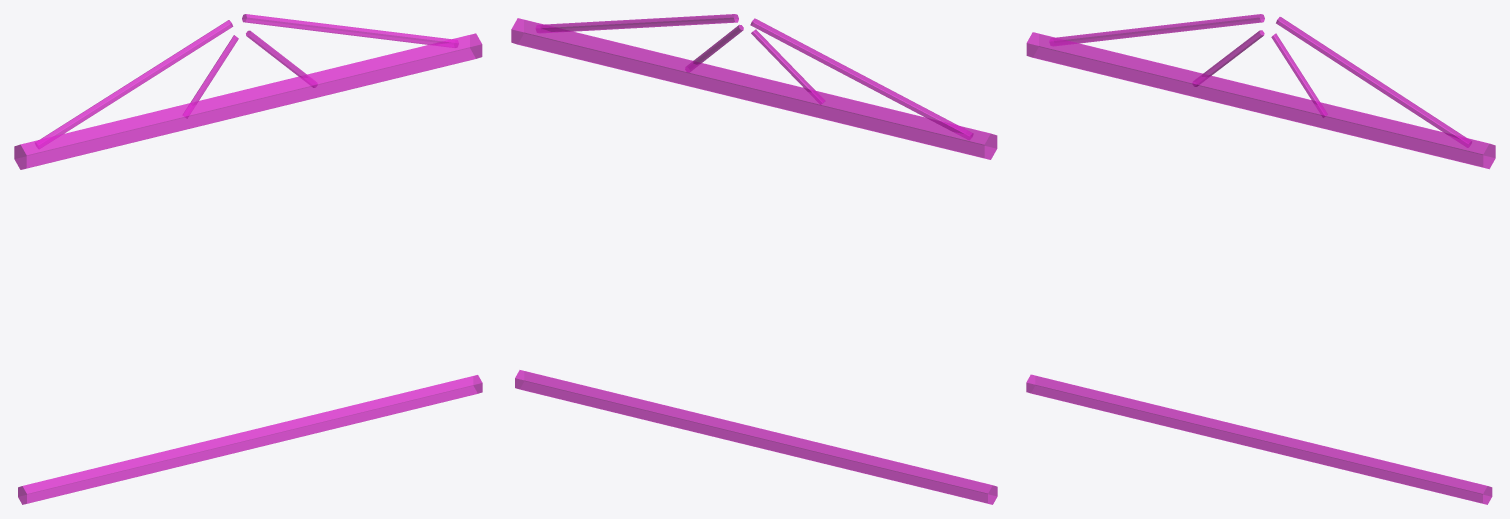
The model's file is SM_Veh_Boat_Medium_01_Sail_01_Collision.fbx.
The picture shows the model from 3 angles, left to right: view 1: azimuth 30°, elevation 25°; view 2: azimuth 150°, elevation 25°; view 3: azimuth 330°, elevation 25°; orthographic projection. The views are drawn at different scales.
Parts seen in each view (by area): view 1: SM_Veh_Boat_Medium_01_Sail_01_Collision; view 2: SM_Veh_Boat_Medium_01_Sail_01_Collision; view 3: SM_Veh_Boat_Medium_01_Sail_01_Collision.
Boxes of the visible parts, <box> form: SM_Veh_Boat_Medium_01_Sail_01_Collision: <box>14,14,482,504</box>; SM_Veh_Boat_Medium_01_Sail_01_Collision: <box>511,14,997,504</box>; SM_Veh_Boat_Medium_01_Sail_01_Collision: <box>1026,14,1495,504</box>.
Size of the model in its own units: 824 by 733 by 59.31.
